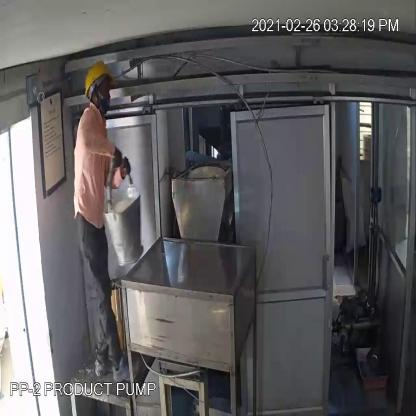helmet: (84, 58, 117, 92)
